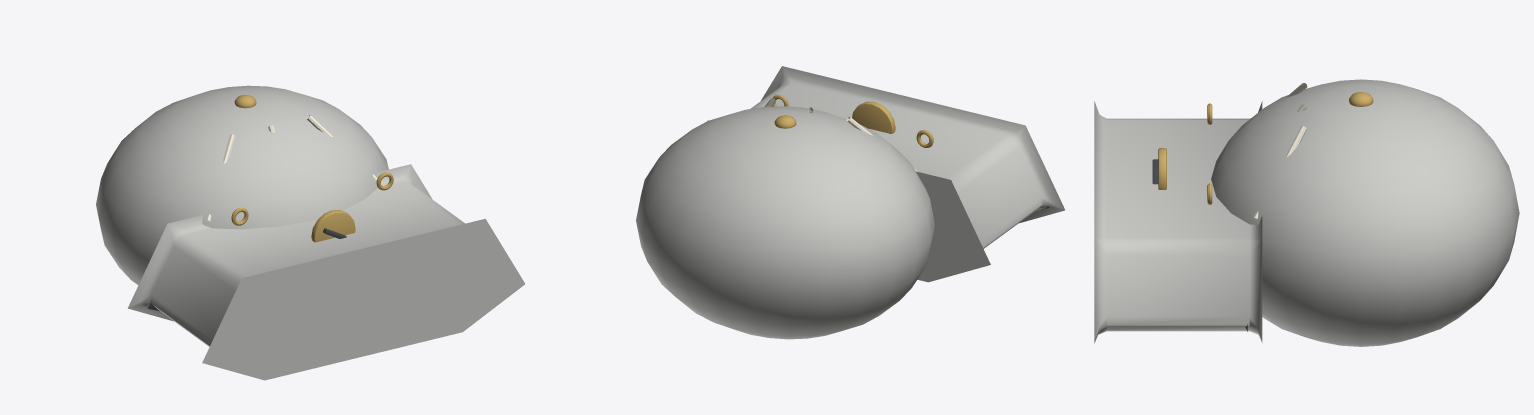
File: checkout_product_cap.glb
The picture shows the model from 3 angles, left to right: view 1: azimuth 30°, elevation 25°; view 2: azimuth 150°, elevation 25°; view 3: azimuth 270°, elevation 25°; orthographic projection. The views are drawn at different scales.
Parts seen in each view (by area): view 1: CapBrim, CapCrown, CapCrest; view 2: CapCrown, CapBrim, CapCrest; view 3: CapCrown, CapBrim, CapCrest.
Boxes of the visible parts, <box> form: CapBrim: <box>127,164,524,380</box>; CapCrown: <box>96,85,388,285</box>; CapCrest: <box>311,210,355,242</box>; CapCrown: <box>636,106,934,339</box>; CapBrim: <box>707,66,1064,282</box>; CapCrest: <box>852,101,895,133</box>; CapCrown: <box>1211,79,1519,346</box>; CapBrim: <box>1094,101,1262,343</box>; CapCrest: <box>1158,148,1166,189</box>.
Size of the model in its own units: 0.2006 by 0.1219 by 0.2024.
